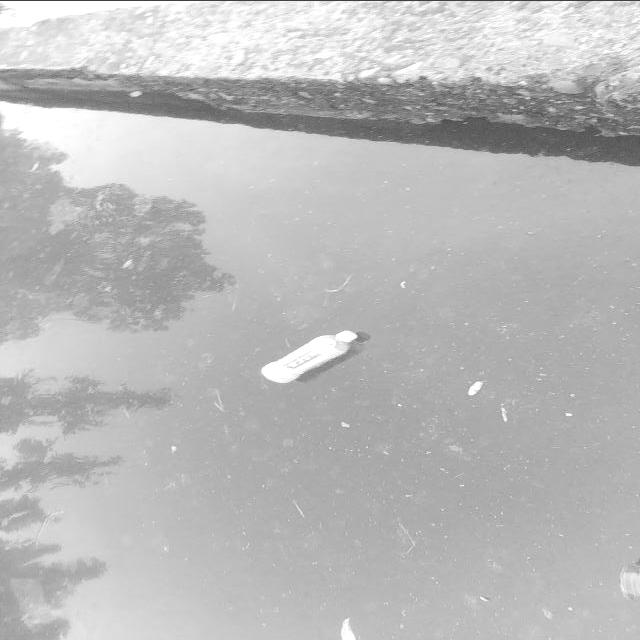bottle: (242, 322, 368, 393)
